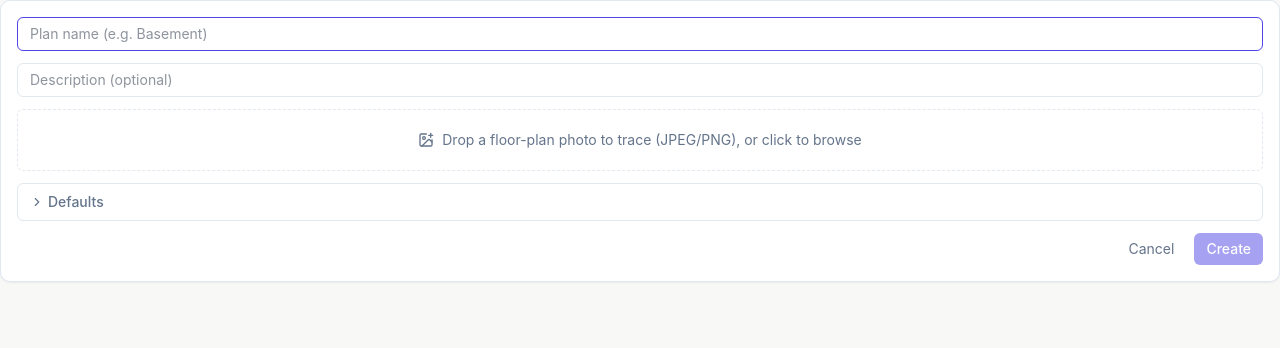
Test: PlanCreateCard › surfaces a creation failure in the card
The image size is (1280, 348).
Step 1. Type "Basement" into the field named "New plan name" → [640, 34], box [17,17,1263,51]
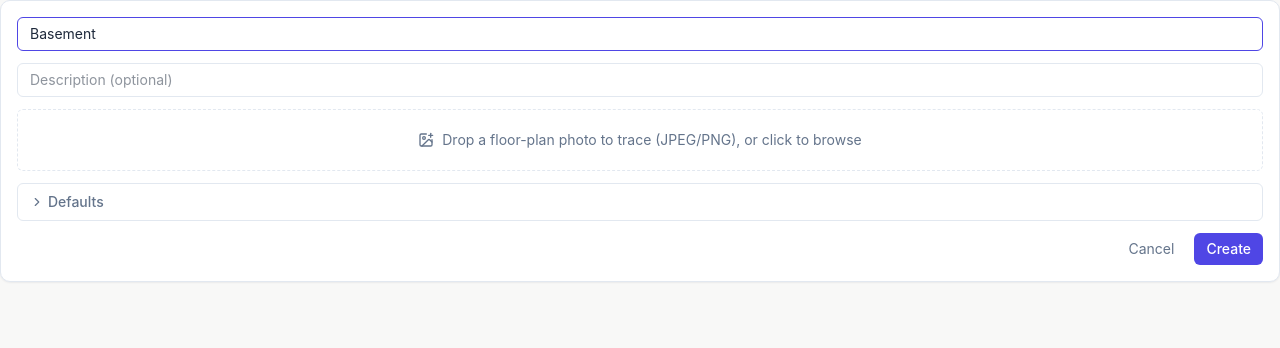
Step 2. Submit the form
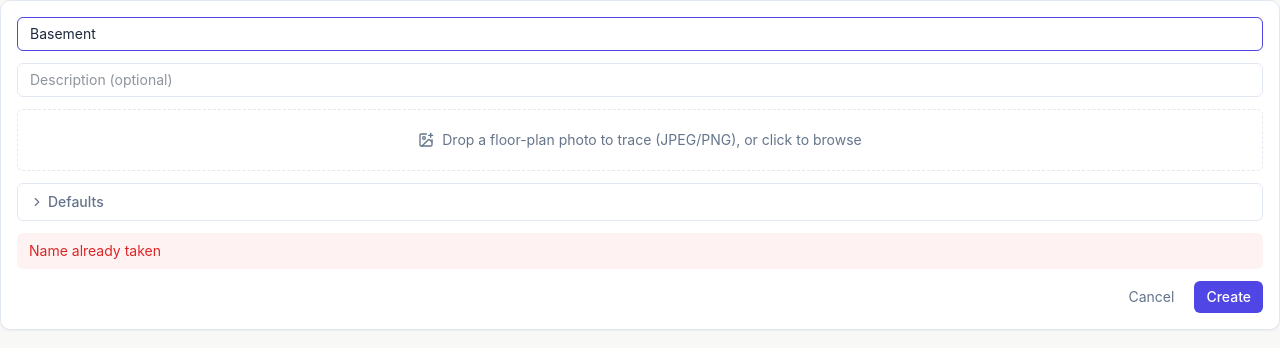
Check: the message "Name already taken" is shown, box [17,233,1263,269]
